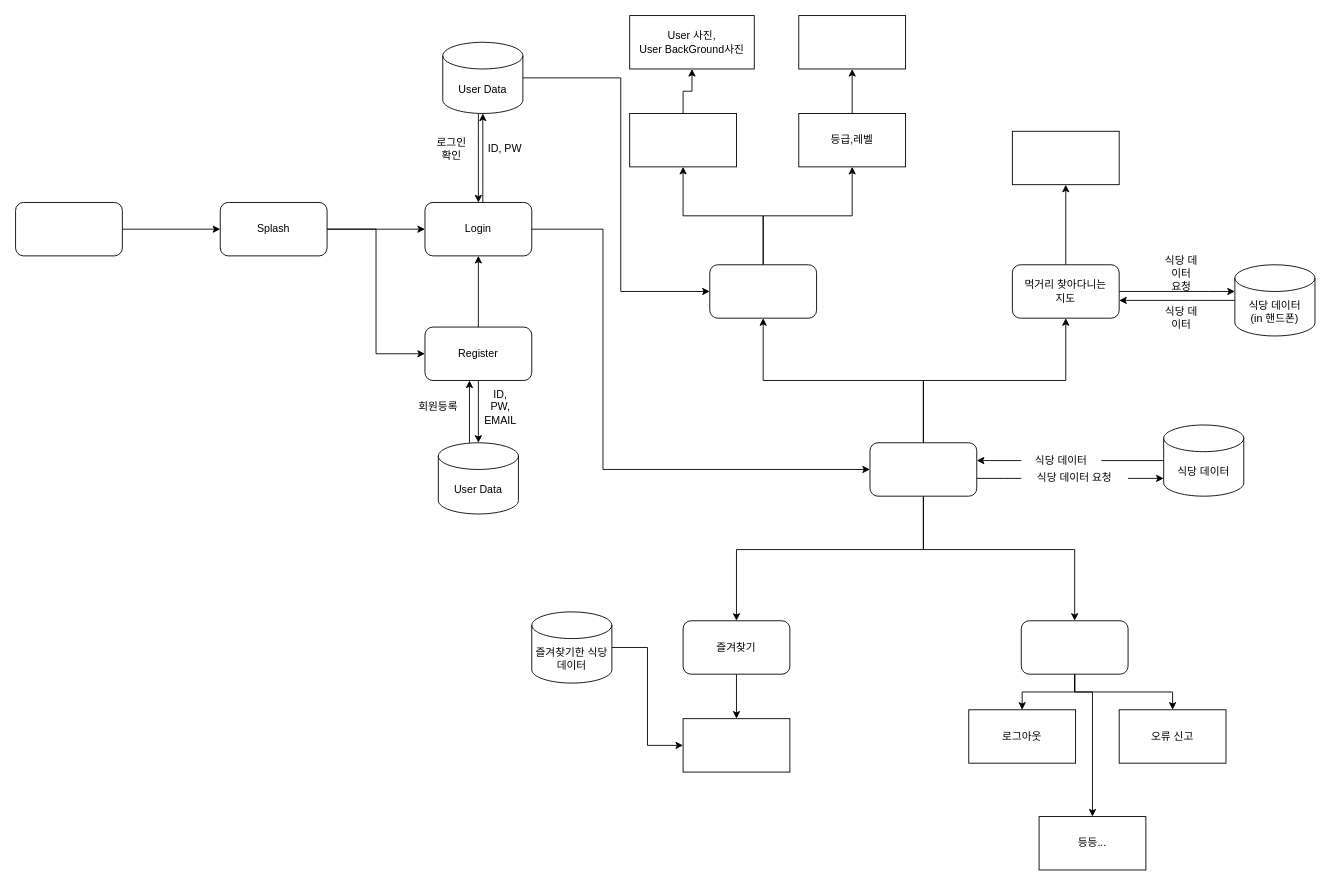
Image size: 1331x886. Some labels were removed from this diagram. Here are the shapes that lost their labels. From the top down, the box of each, then its label:
(798, 15, 906, 69): 포인트 지급 내역
(629, 113, 736, 167): UserNickName
(1011, 130, 1119, 185): 내가 다닌 식당 표시 (in 지도)
(15, 202, 122, 256): Start
(709, 264, 817, 318): 개인정보
(869, 442, 977, 496): Main
(1020, 620, 1128, 674): Setting
(682, 718, 790, 772): 내가 추가한 즐겨찾기 리스트 보여주기
